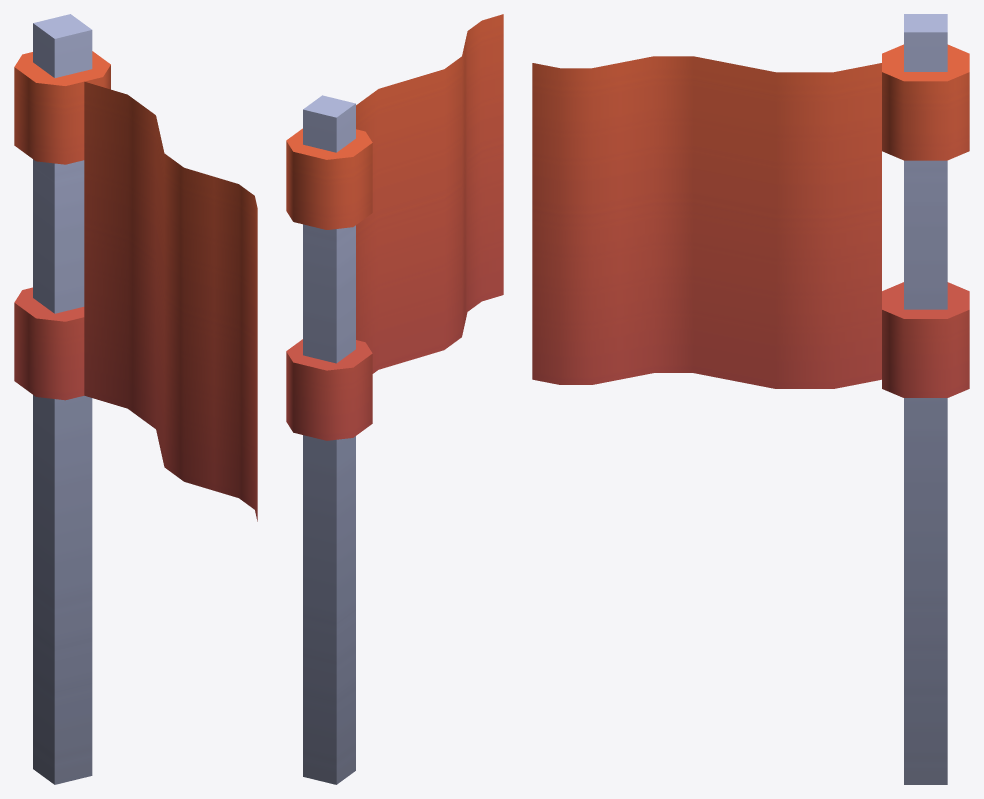
Rendered from flag.fbx.
3 renders of one model, left to right at view 1: azimuth 30°, elevation 25°; view 2: azimuth 150°, elevation 25°; view 3: azimuth 270°, elevation 25°, orthographic. The views are drawn at different scales.
Parts seen in each view (by area): view 1: flag; view 2: flag; view 3: flag.
Boxes of the visible parts, bbox=[...] form: flag: bbox=[14, 14, 257, 784]; flag: bbox=[286, 14, 503, 784]; flag: bbox=[532, 14, 969, 784].
Bounding box in the file's own units: 10 × 95 × 50.
